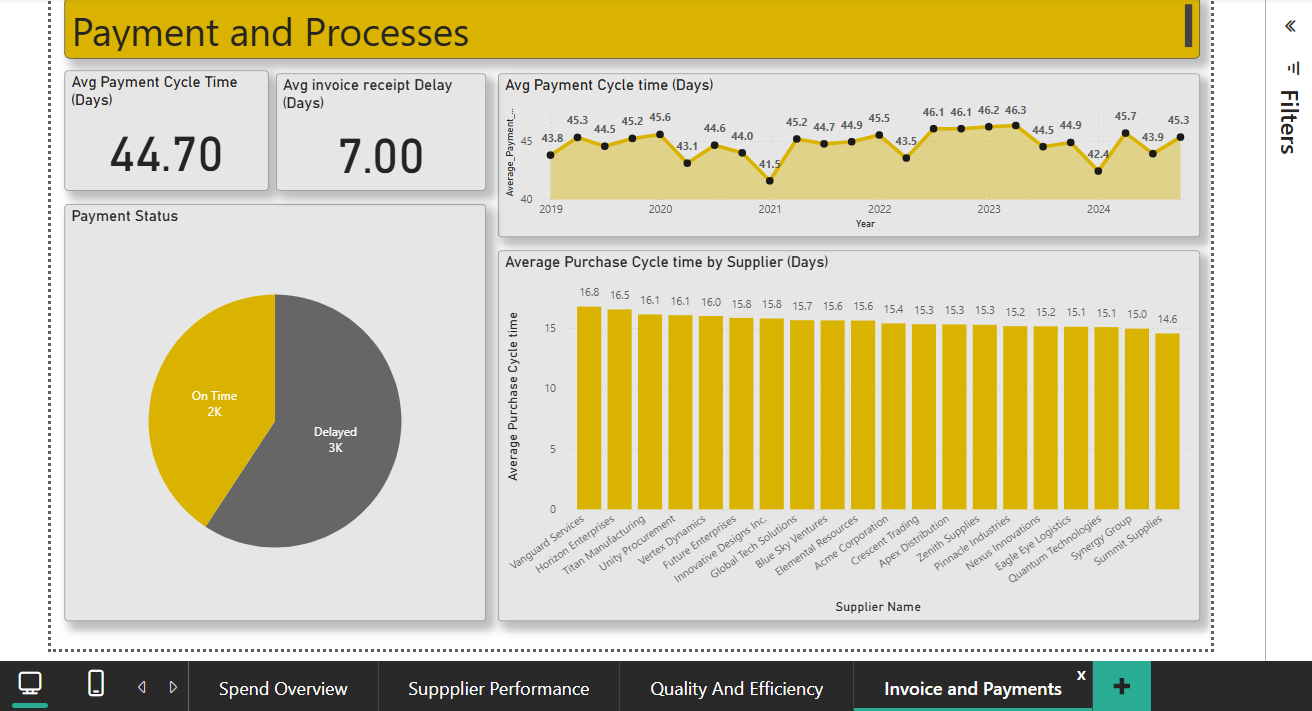

What the dashboard file says about the page in this screenshot:
{"tool":"powerbi","page":{"name":"Invoice and Payments","canvas":[1280,720],"ordinal":3},"visuals":[{"type":"textbox","box":[14.9,0,1254,67.9],"z":0},{"type":"card","title":"Avg Payment Cycle Time (Days)","fields":{"Values":["Procurement Data.Measure"]},"box":[14.9,81.2,225.3,132.5],"z":1000},{"type":"lineChart","title":"Avg Payment Cycle time (Days)","fields":{"Category":["Procurement Data.Date of Purchase.Variation.Date Hierarchy.Year","Procurement Data.Date of Purchase.Variation.Date Hierarchy.Quarter","Procurement Data.Date of Purchase.Variation.Date Hierarchy.Month","Procurement Data.Date of Purchase.Variation.Date Hierarchy.Day"],"Y":["Procurement Data.Average_Payment_Cycle"]},"box":[493.6,84.5,775.2,180.6],"z":2000},{"type":"pieChart","title":"Payment Status","fields":{"Y":["Procurement Data.Count Payment Status"],"Category":["Procurement Data.Payment Status"]},"box":[14.9,228.6,465.5,460.5],"z":3000},{"type":"card","title":"Avg invoice receipt Delay (Days)","fields":{"Values":["Procurement Data.Avg Invoice receipt Delay"]},"box":[248.5,84.5,231.9,129.2],"z":4000},{"type":"lineClusteredColumnComboChart","title":"Average Purchase Cycle time by Supplier (Days)","fields":{"Category":["Procurement Data.Supplier Name"],"Y":["Procurement Data.Average Purchase Cycle time"]},"box":[493.6,279.9,775.2,409.2],"z":5000}]}

Visuals, with their boxes on the page's 1280x720 design canvas (x1, y1, x2, y2). These are canvas units, not pixel positions in the 1312x711 screenshot, which may show the page scaled, cropped or inside an application window:
textbox: box=[15, 0, 1269, 68]
"Avg Payment Cycle Time (Days)" card: box=[15, 81, 240, 214]
"Avg Payment Cycle time (Days)" lineChart: box=[494, 84, 1269, 265]
"Payment Status" pieChart: box=[15, 229, 480, 689]
"Avg invoice receipt Delay (Days)" card: box=[248, 84, 480, 214]
"Average Purchase Cycle time by Supplier (Days)" lineClusteredColumnComboChart: box=[494, 280, 1269, 689]
